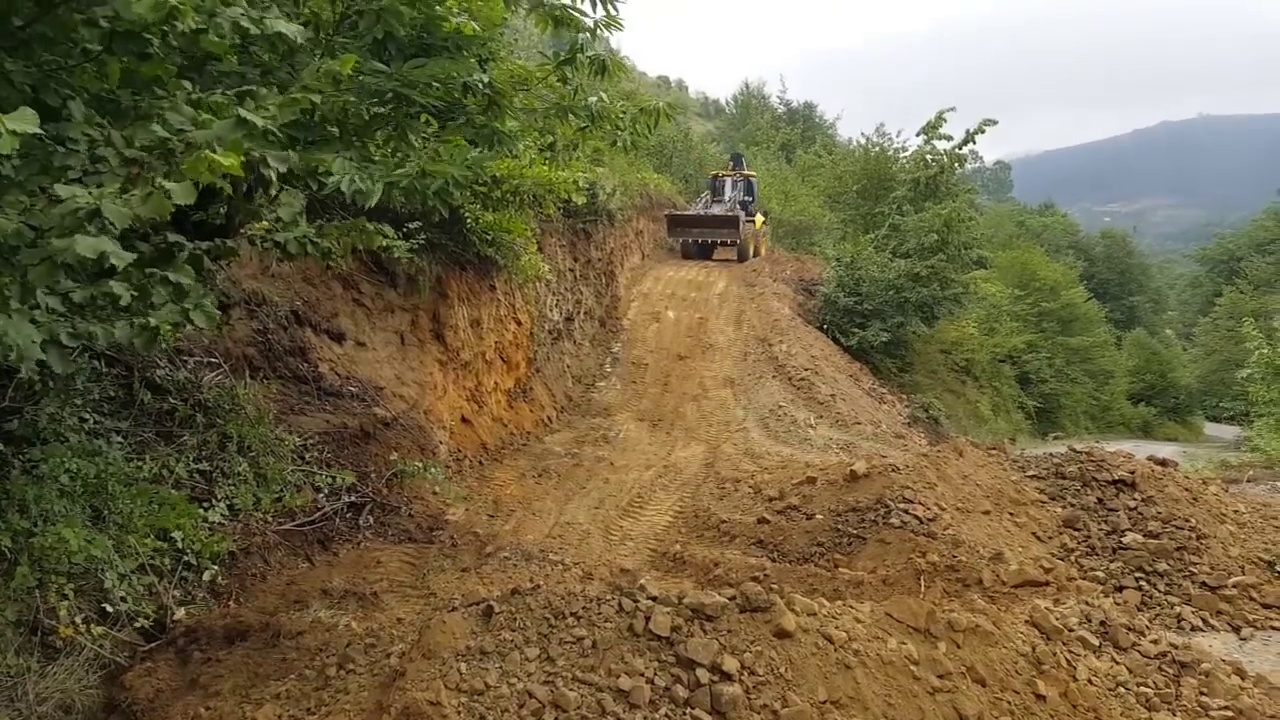wheel loader: (665, 153, 766, 264)
